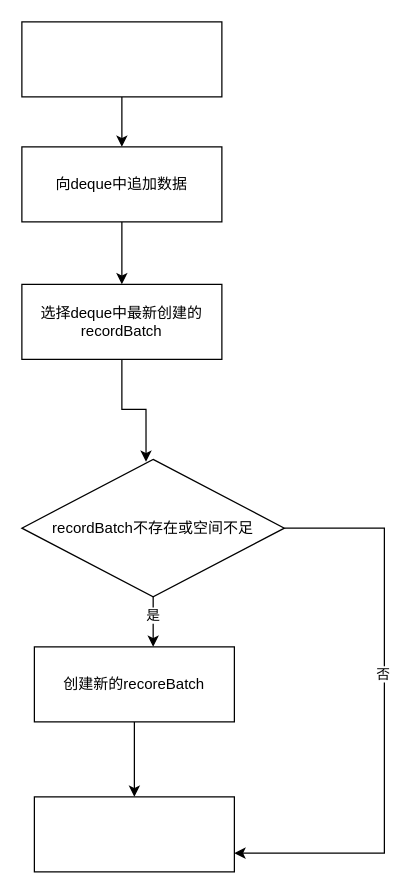
Some shapes in this 416 by 894 pixel diagram are drawn without their labels. Here are the shapes that lost their labels. From the top down, the centre of each, then its label:
the point at 121,59: 获取partition对应的deque，如果没有则创建
the point at 133,834: 写入数据
